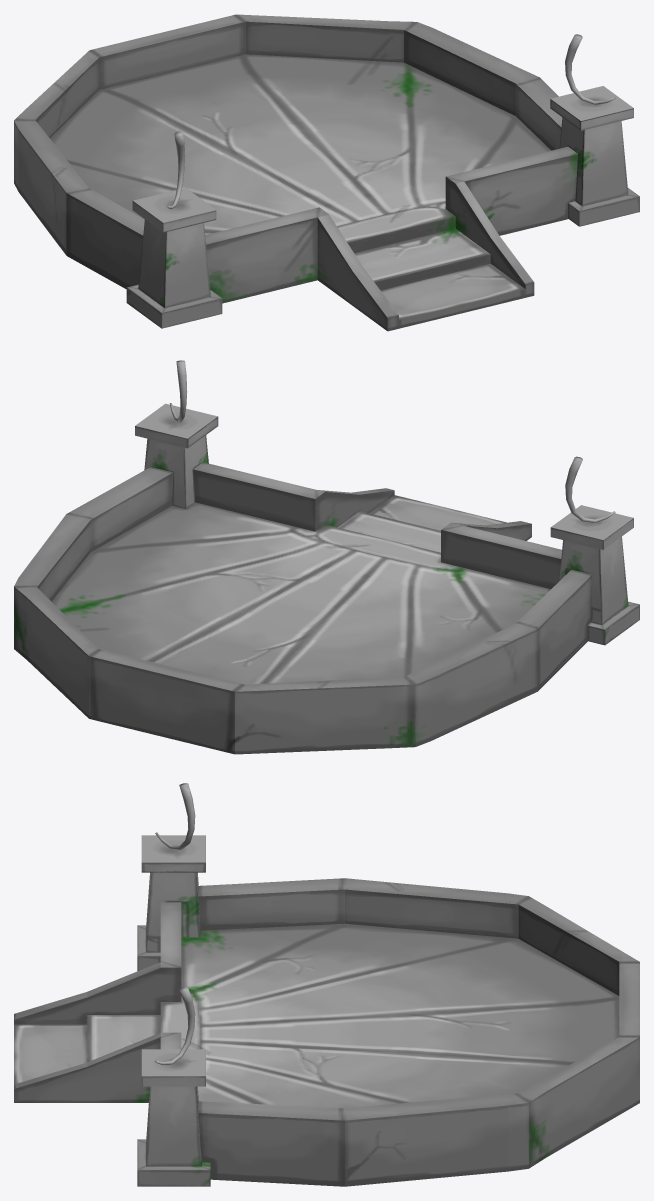
The model's file is gajahmina altar.fbx.
3 renders of one model, top to bottom at view 1: azimuth 30°, elevation 25°; view 2: azimuth 150°, elevation 25°; view 3: azimuth 270°, elevation 25°, orthographic. The views are drawn at different scales.
Parts seen in each view (by area): view 1: Cube, Cube.001, Cube.002; view 2: Cube, Cube.001, Cube.002; view 3: Cube, Cube.002, Cube.001.
Part boxes in pixels (x1,y1,x2,y2): Cube: (14, 14, 577, 331); Cube.001: (126, 131, 222, 328); Cube.002: (550, 34, 639, 226); Cube: (14, 462, 591, 754); Cube.001: (550, 456, 639, 645); Cube.002: (135, 360, 218, 508); Cube: (14, 878, 639, 1186); Cube.002: (137, 986, 210, 1186); Cube.001: (137, 783, 205, 971).
Bounding box in the file's own units: 596 × 203 × 644.
3 materials, 3 textured.
